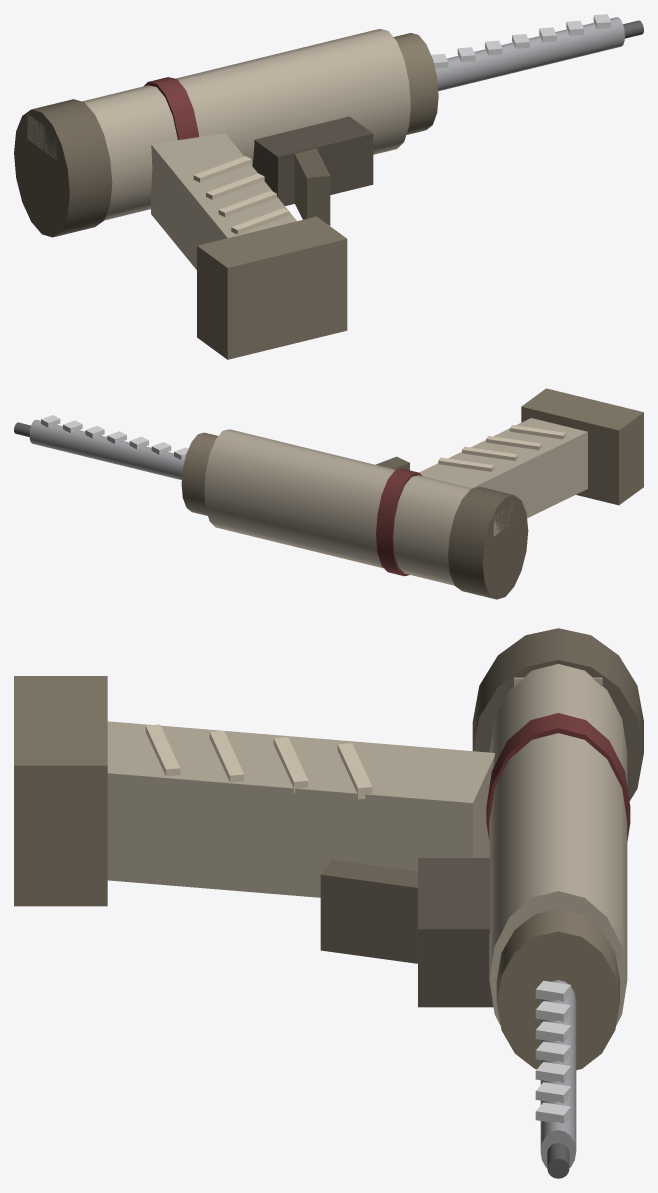
File: CMU3DCMSurgicalDrillMedicalSmallCloud.glb
The picture shows the model from 3 angles, top to bottom: view 1: azimuth 30°, elevation 25°; view 2: azimuth 150°, elevation 25°; view 3: azimuth 270°, elevation 25°; orthographic projection. The views are drawn at different scales.
Parts seen in each view (by area): view 1: tan motor housing, handle heel, rear motor cap, slanted pistol handle, dark under-body trigger assembly, steel drill shaft, front chuck collar, trigger, red source safety band, rear raised flat housing, grip raised rib 0, grip raised rib 3 (+2 smaller); view 2: tan motor housing, slanted pistol handle, handle heel, rear motor cap, steel drill shaft, red source safety band, front chuck collar, grip raised rib 3, grip raised rib 0, grip raised rib 1, grip raised rib 2; view 3: slanted pistol handle, tan motor housing, handle heel, front chuck collar, dark under-body trigger assembly, trigger, rear motor cap, red source safety band, steel drill shaft, grip raised rib 0, grip raised rib 1, grip raised rib 2 (+1 smaller).
Boxes of the visible parts, x1=… form: tan motor housing: x1=82, y1=29, x2=410, y2=220; handle heel: x1=197, y1=216, x2=347, y2=359; rear motor cap: x1=14, y1=99, x2=112, y2=237; slanted pistol handle: x1=151, y1=133, x2=296, y2=269; dark under-body trigger assembly: x1=252, y1=116, x2=373, y2=205; steel drill shaft: x1=435, y1=17, x2=624, y2=91; front chuck collar: x1=393, y1=33, x2=438, y2=134; trigger: x1=294, y1=148, x2=330, y2=225; red source safety band: x1=144, y1=77, x2=198, y2=139; rear raised flat housing: x1=27, y1=114, x2=100, y2=159; grip raised rib 0: x1=193, y1=156, x2=251, y2=182; grip raised rib 3: x1=231, y1=208, x2=289, y2=234; tan motor housing: x1=204, y1=429, x2=472, y2=585; slanted pistol handle: x1=419, y1=418, x2=587, y2=518; handle heel: x1=521, y1=388, x2=643, y2=505; rear motor cap: x1=448, y1=486, x2=528, y2=599; steel drill shaft: x1=29, y1=420, x2=184, y2=480; red source safety band: x1=376, y1=468, x2=422, y2=576; front chuck collar: x1=181, y1=432, x2=217, y2=515; grip raised rib 3: x1=509, y1=425, x2=565, y2=439; grip raised rib 0: x1=438, y1=457, x2=493, y2=471; grip raised rib 1: x1=462, y1=446, x2=517, y2=460; grip raised rib 2: x1=486, y1=436, x2=541, y2=449; slanted pistol handle: x1=107, y1=721, x2=494, y2=897; tan motor housing: x1=489, y1=664, x2=627, y2=1025; handle heel: x1=14, y1=676, x2=107, y2=906; front chuck collar: x1=496, y1=909, x2=619, y2=1070; dark under-body trigger assembly: x1=418, y1=858, x2=493, y2=1007; trigger: x1=320, y1=859, x2=417, y2=963; rear motor cap: x1=472, y1=628, x2=643, y2=800; red source safety band: x1=486, y1=713, x2=630, y2=841; steel drill shaft: x1=540, y1=980, x2=576, y2=1167; grip raised rib 0: x1=337, y1=743, x2=372, y2=799; grip raised rib 1: x1=273, y1=737, x2=308, y2=792; grip raised rib 2: x1=209, y1=730, x2=244, y2=782.
Size of what is drawn, in the model's own units: 0.8595 by 0.169 by 0.5115.
